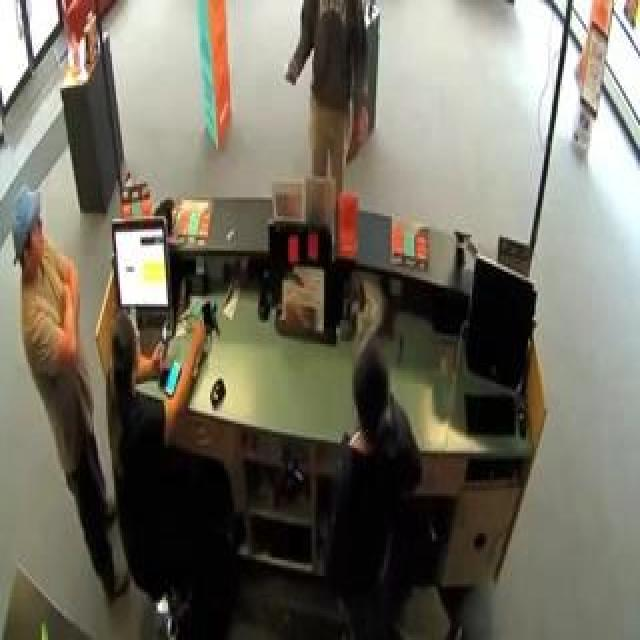low_con: (8, 183, 53, 290)
no_con: (350, 341, 399, 462), (105, 313, 144, 390)
